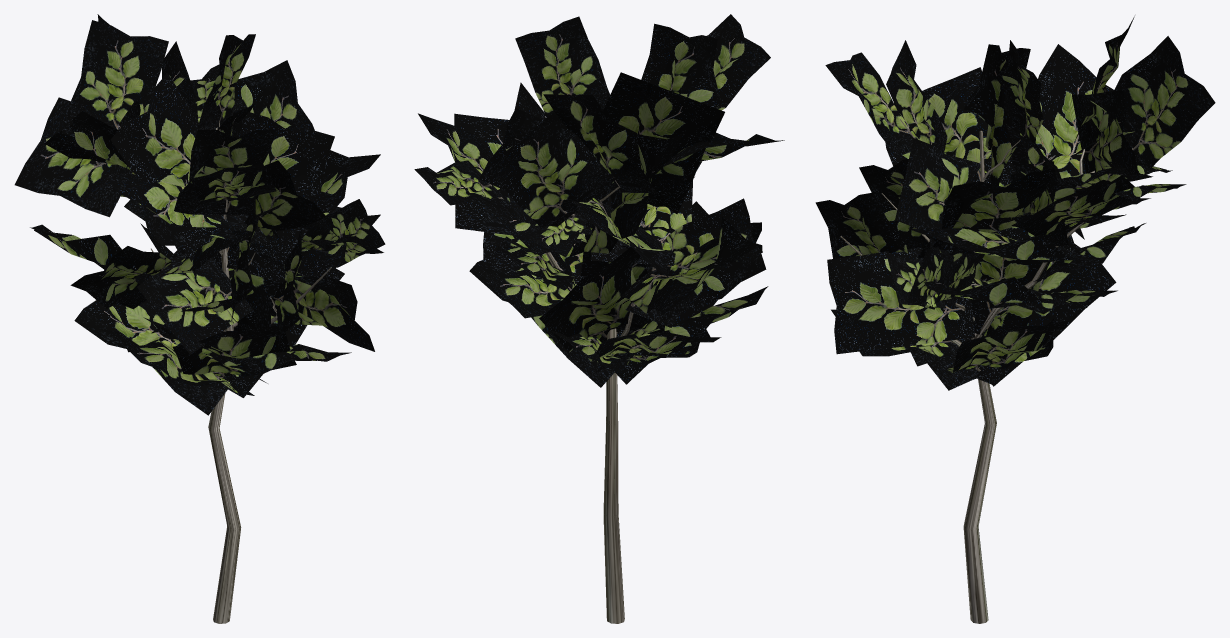
Rendered from luz_tree_01.obj.
The picture shows the model from 3 angles, left to right: view 1: azimuth 30°, elevation 25°; view 2: azimuth 150°, elevation 25°; view 3: azimuth 270°, elevation 25°; orthographic projection. The views are drawn at different scales.
Parts seen in each view (by area): view 1: hojas_035, hojas_011, hojas_044, hojas_025, hojas_03, hojas_043, hojas_037, hojas_028, hojas_09, tree_stem_012, hojas_029, hojas_04 (+21 smaller); view 2: hojas_041, hojas_011, hojas_010, hojas_042, hojas_012, hojas_035, hojas_037, tree_stem_012, hojas_047, hojas_046, hojas_030, hojas_019 (+18 smaller); view 3: hojas_09, hojas_041, hojas_046, tree_stem_012, hojas_038, hojas_043, hojas_044, hojas_040, hojas_015, hojas_045, hojas_030, hojas_042 (+21 smaller).
Boxes of the visible parts, box(x1,y1,x2,y2) form: hojas_035: box(62, 20, 168, 136); hojas_011: box(110, 73, 213, 261); hojas_044: box(212, 112, 334, 283); hojas_025: box(137, 252, 253, 354); hojas_03: box(14, 97, 132, 217); hojas_043: box(102, 173, 270, 245); hojas_037: box(174, 129, 275, 214); hojas_028: box(74, 300, 228, 415); hojas_09: box(256, 251, 374, 351); tree_stem_012: box(151, 122, 331, 623); hojas_029: box(172, 325, 296, 376); hojas_04: box(198, 60, 314, 132); hojas_041: box(485, 113, 615, 228); hojas_011: box(603, 72, 724, 214); hojas_010: box(515, 16, 609, 118); hojas_042: box(539, 247, 641, 352); hojas_012: box(645, 198, 766, 320); hojas_035: box(543, 94, 656, 193); hojas_037: box(641, 23, 720, 108); tree_stem_012: box(488, 177, 694, 623); hojas_047: box(621, 216, 758, 313); hojas_046: box(569, 133, 683, 257); hojas_030: box(707, 14, 770, 110); hojas_019: box(474, 263, 572, 318); hojas_09: box(827, 248, 974, 354); hojas_041: box(1113, 36, 1215, 168); hojas_046: box(984, 44, 1113, 233); tree_stem_012: box(840, 92, 1132, 623); hojas_038: box(895, 138, 980, 228); hojas_043: box(885, 67, 1016, 183); hojas_044: box(917, 168, 1054, 258); hojas_040: box(1072, 90, 1138, 175); hojas_015: box(815, 192, 907, 258); hojas_045: box(941, 214, 1050, 335); hojas_030: box(825, 52, 917, 156); hojas_042: box(958, 235, 1116, 386).
Bounding box in the file's own units: 24.96 × 42.72 × 26.24.
Materials: 2 (2 with a texture image).
